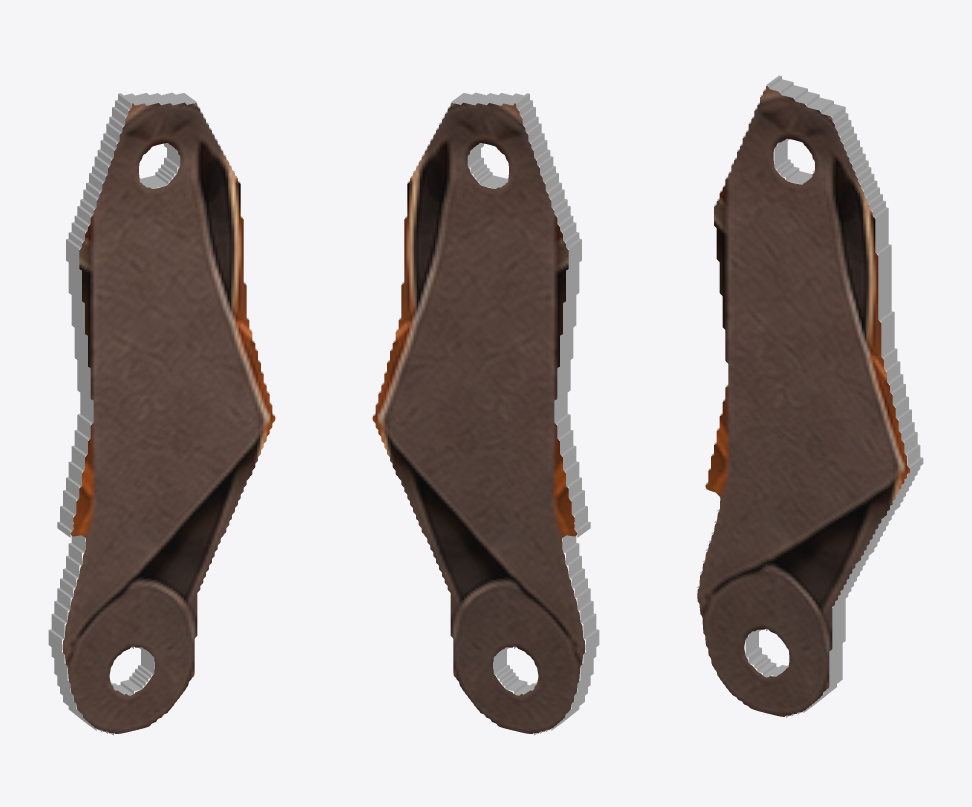
Rendered from BodyLinkLower.glb.
3 views of the same model, side by side, from view 1: azimuth 30°, elevation 25°; view 2: azimuth 150°, elevation 25°; view 3: azimuth 330°, elevation 25° (orthographic).
Parts seen in each view (by area): view 1: PaperVolume; view 2: PaperVolume; view 3: PaperVolume.
Boxes of the visible parts, x1,y1,x2,y2 form: PaperVolume: (48,92,275,735); PaperVolume: (372,92,599,735); PaperVolume: (697,75,923,717).
Bounding box in the file's own units: 0.98 × 2.32 × 0.08.
3 materials, 2 textured.
